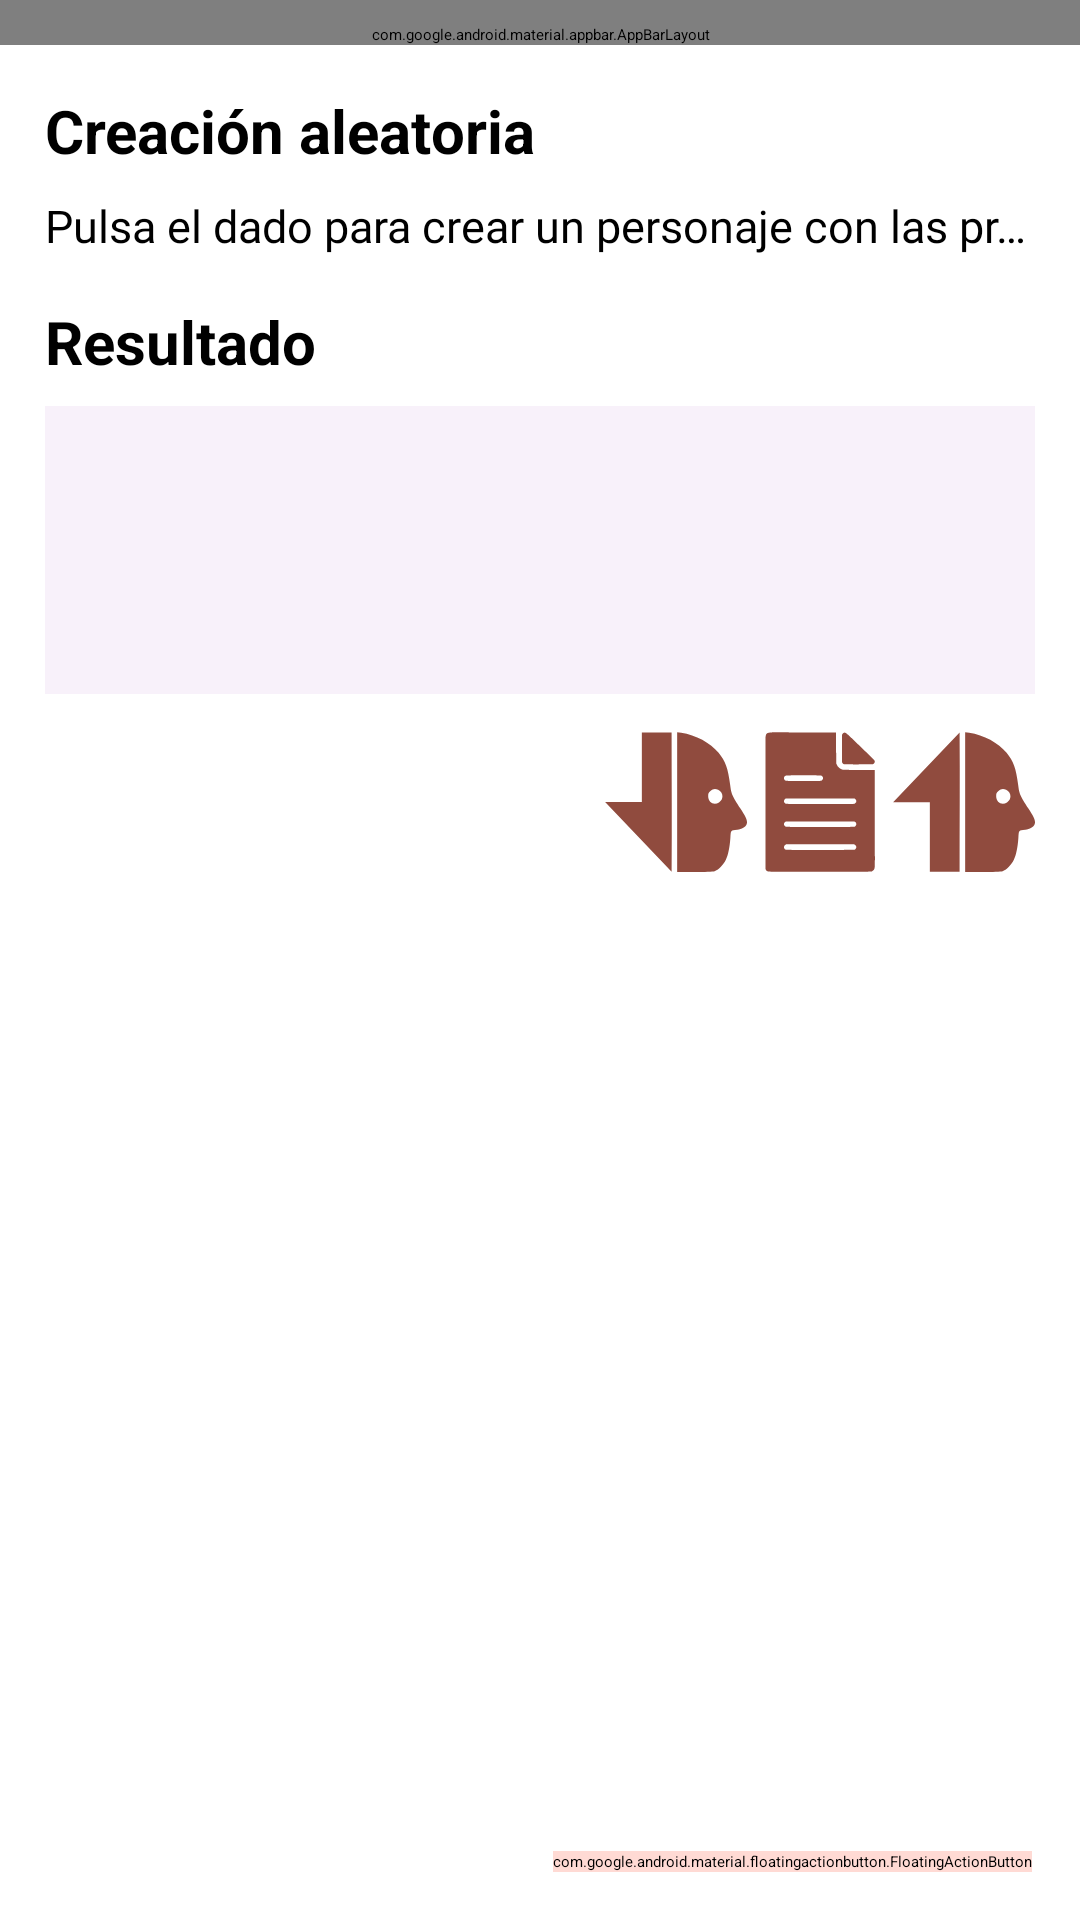

Locate icon controls on the screen. Image size 1080×1920, boxes as [x1,y1,x2,y2].
Guardar personaje: [605,732,747,872]
